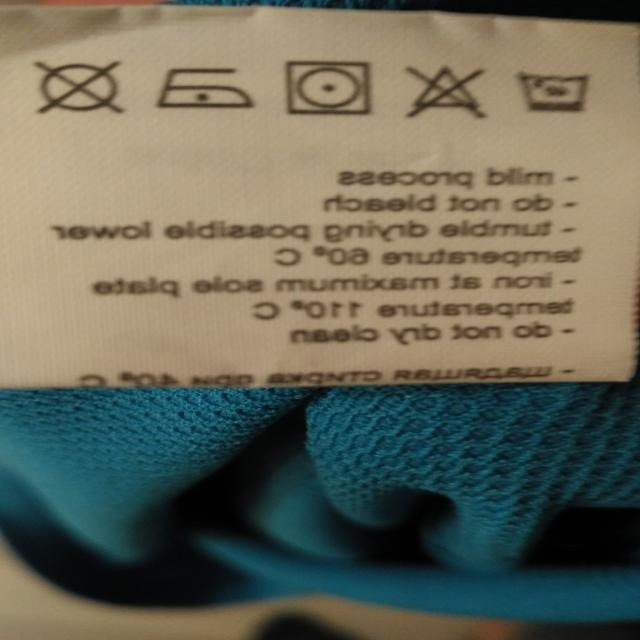40C: (512, 69, 594, 115)
DN_bleach: (397, 61, 492, 126)
DN_dry_clean: (26, 54, 131, 123)
iron_low: (154, 65, 257, 119)
tumble_dry_low: (273, 56, 376, 125)
